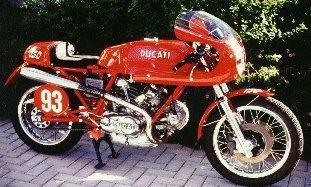motorcycle: (2, 6, 311, 187)
